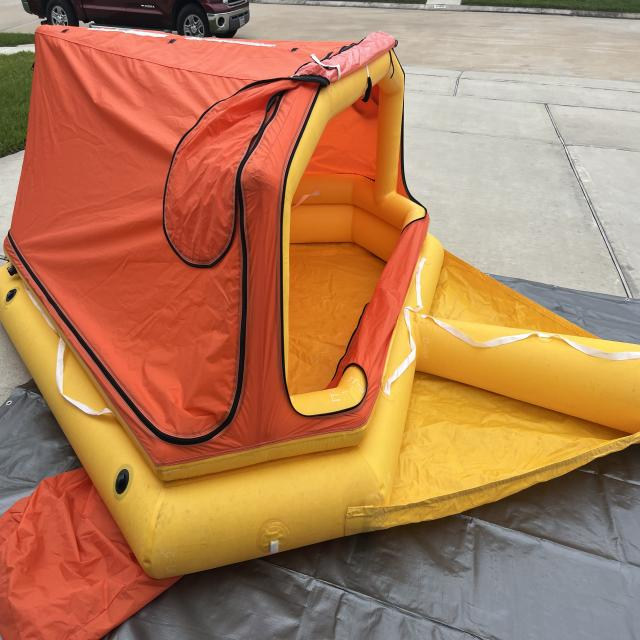Multi-person_life_raft: (1, 23, 640, 639)
